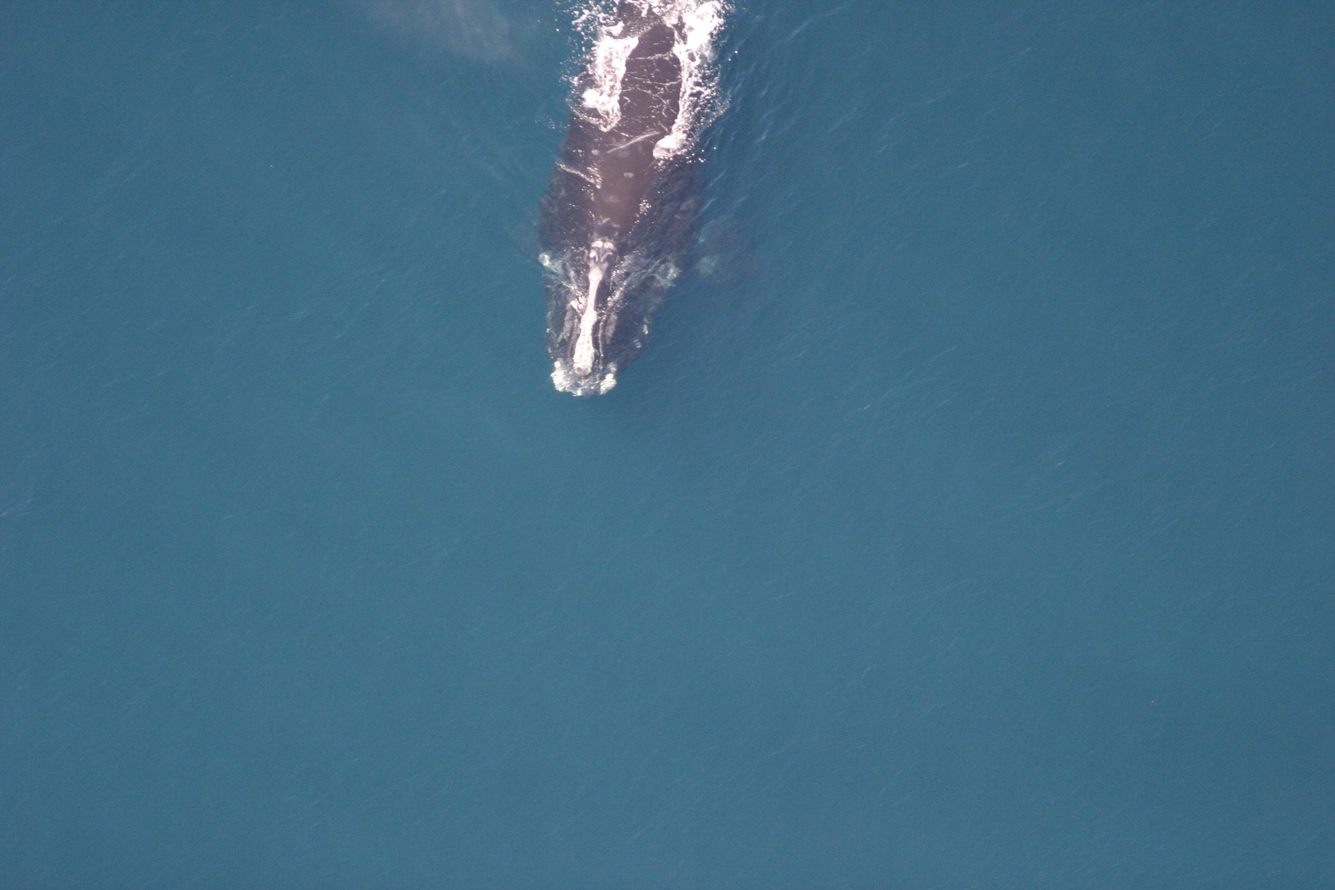whale: (491, 0, 774, 407)
